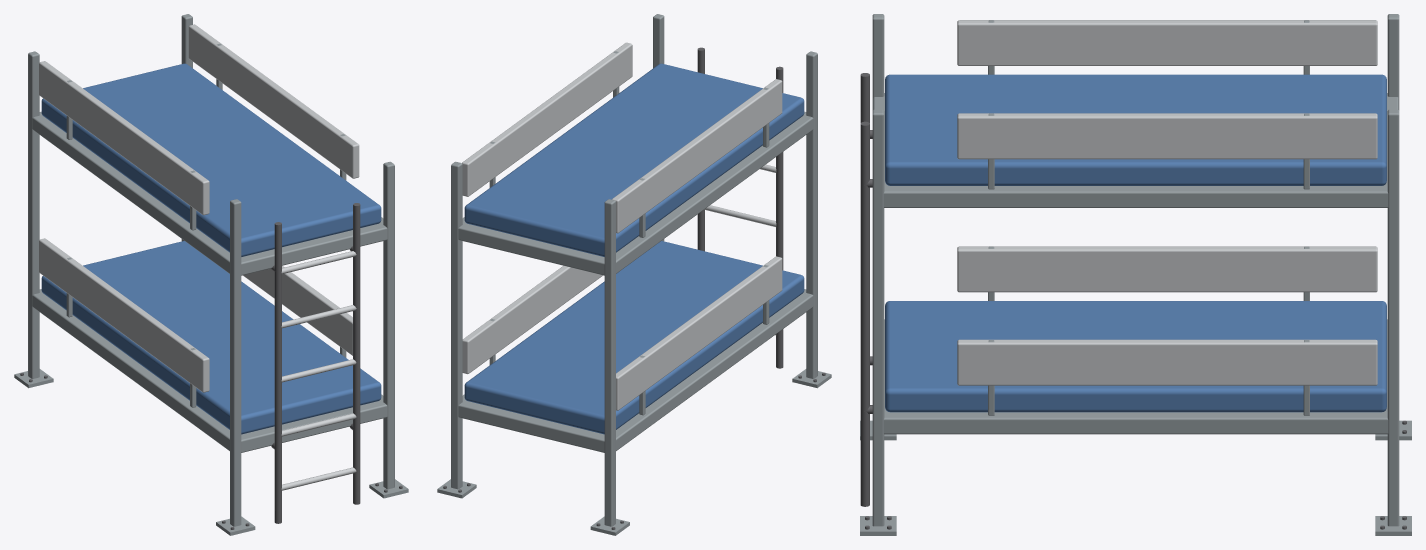
Rendered from prison-complex-builder-cell-bunk-7838538a__25595.glb.
3 renders of one model, left to right at view 1: azimuth 30°, elevation 25°; view 2: azimuth 150°, elevation 25°; view 3: azimuth 270°, elevation 25°, orthographic. The views are drawn at different scales.
Visible parts, largest first — view 1: cell-bunk; view 2: cell-bunk; view 3: cell-bunk.
Part boxes in pixels (x1,y1,x2,y2): cell-bunk: (14, 14, 408, 535); cell-bunk: (437, 14, 831, 535); cell-bunk: (860, 14, 1411, 535).
Bounding box in the file's own units: 0.9999 × 1.75 × 2.1.
